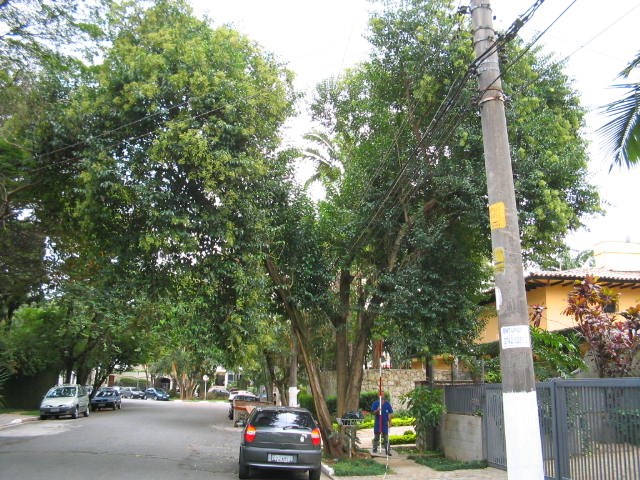crown: (44, 3, 603, 376)
stem: (316, 418, 368, 456)
stick: (373, 340, 388, 455)
tree: (41, 2, 605, 458)
